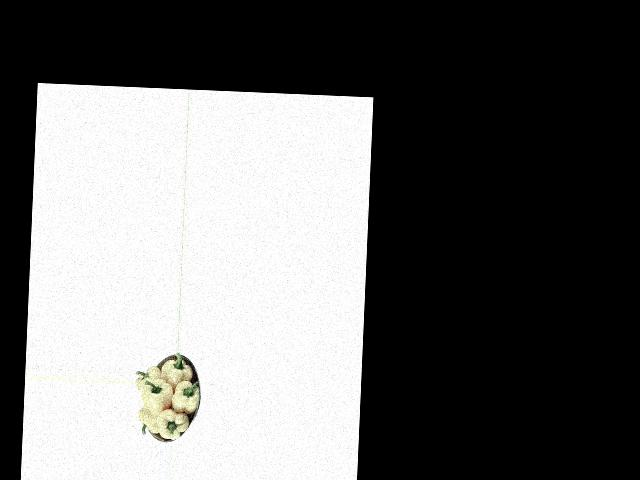bell_pepper: (135, 362, 164, 392)
